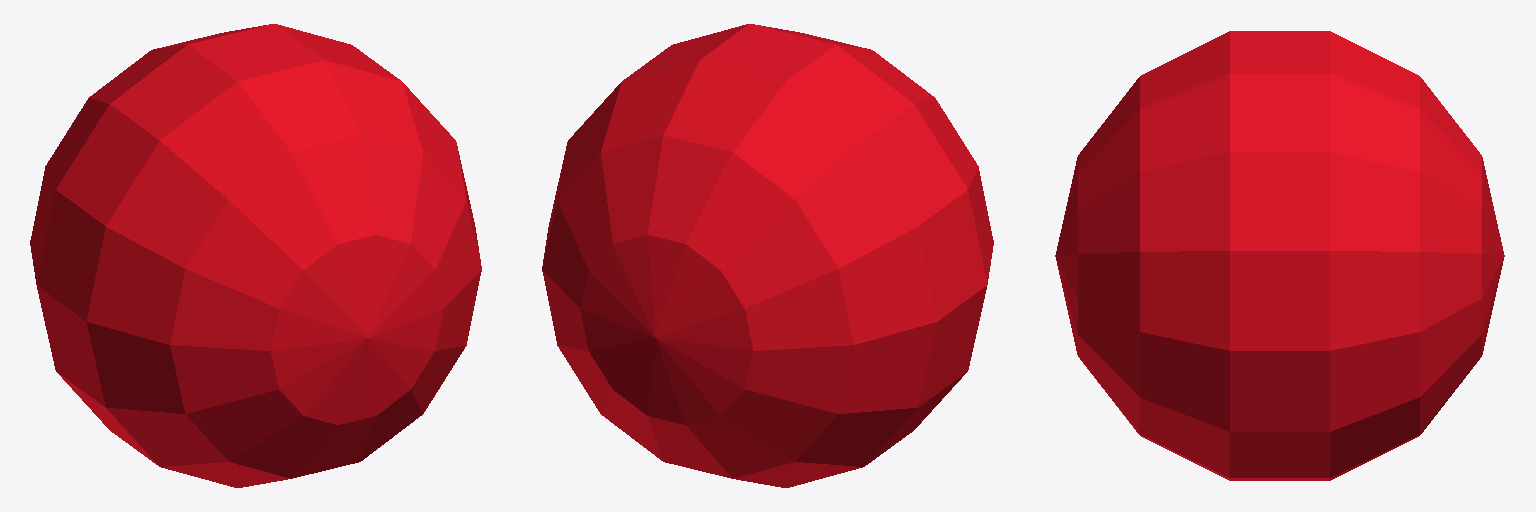
Rendered from sphere_red.obj.
3 views of the same model, side by side, from view 1: azimuth 30°, elevation 25°; view 2: azimuth 150°, elevation 25°; view 3: azimuth 270°, elevation 25° (orthographic).
Parts seen in each view (by area): view 1: obj_0; view 2: obj_0; view 3: obj_0.
Part boxes in pixels (x1,y1,x2,y2): obj_0: (30,24,481,487); obj_0: (542,24,993,487); obj_0: (1055,31,1504,480).
Bounding box in the file's own units: 2 × 2 × 2.